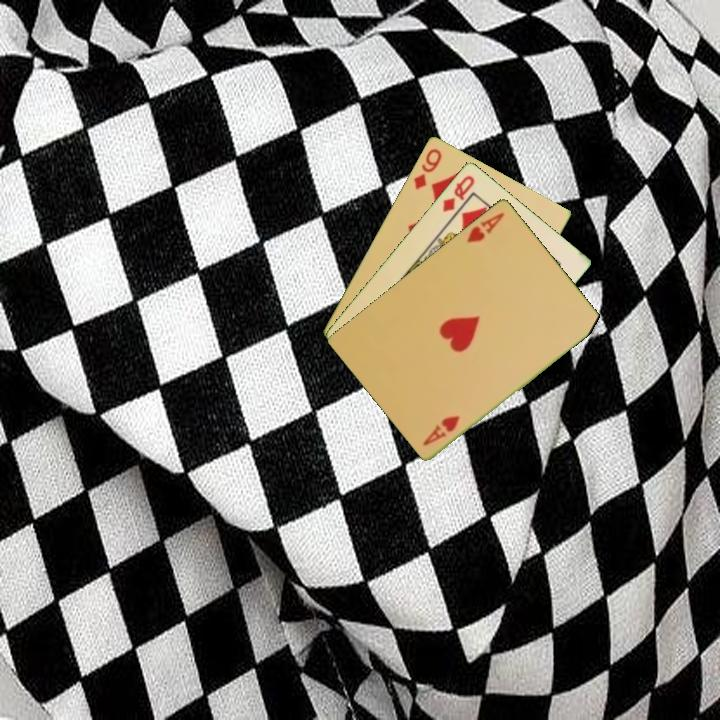9d: (410, 144, 445, 192)
Ah: (463, 208, 507, 245), (419, 411, 463, 448)
Qd: (439, 171, 478, 215)
